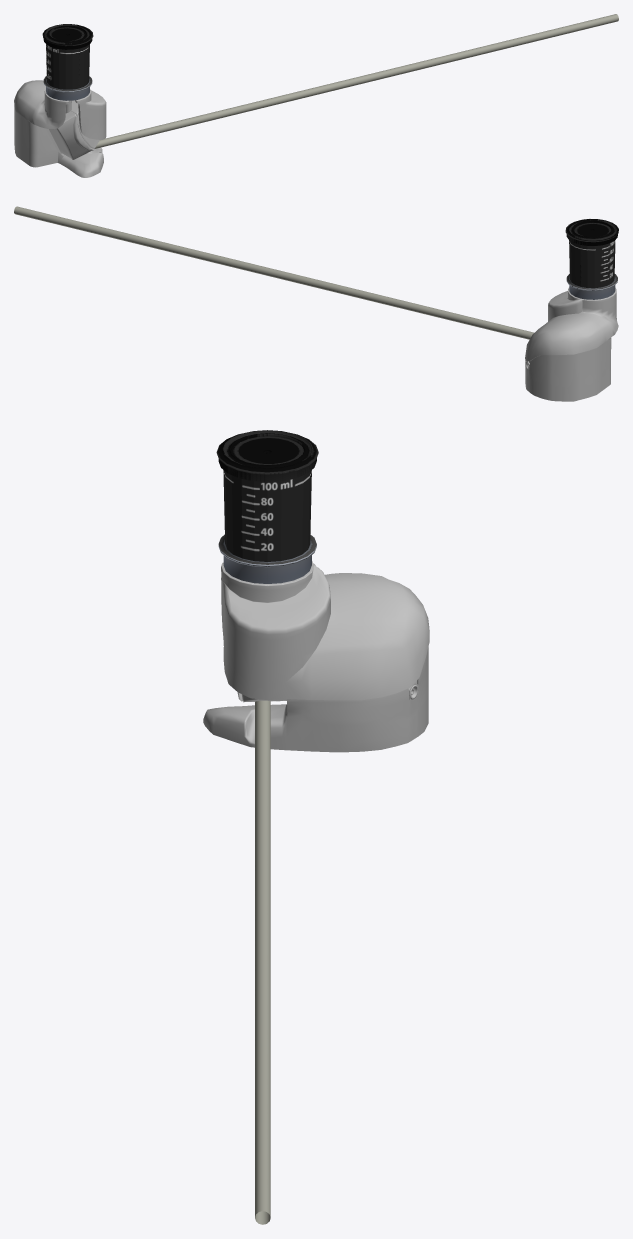
The model's file is membrane_filtration_pump_seperated_fixed.fbx.
The picture shows the model from 3 angles, top to bottom: view 1: azimuth 30°, elevation 25°; view 2: azimuth 150°, elevation 25°; view 3: azimuth 270°, elevation 25°; orthographic projection. The views are drawn at different scales.
Visible parts, largest first — view 1: membrane_filtration_pump, membrane_filtration_pump_hose, membrane_filtration_pump_tank, membrane_filtration_pump_filter_lid, membrane_filtration_pump_tank_base; view 2: membrane_filtration_pump, membrane_filtration_pump_hose, membrane_filtration_pump_tank, membrane_filtration_pump_filter_lid, membrane_filtration_pump_tank_base; view 3: membrane_filtration_pump, membrane_filtration_pump_hose, membrane_filtration_pump_tank, membrane_filtration_pump_filter_lid, membrane_filtration_pump_tank_base.
Boxes of the visible parts, <box> form: membrane_filtration_pump: <box>14,80,106,177</box>; membrane_filtration_pump_hose: <box>95,14,618,148</box>; membrane_filtration_pump_tank: <box>46,44,89,89</box>; membrane_filtration_pump_filter_lid: <box>42,24,93,49</box>; membrane_filtration_pump_tank_base: <box>43,76,92,100</box>; membrane_filtration_pump: <box>525,287,618,401</box>; membrane_filtration_pump_hose: <box>14,206,533,339</box>; membrane_filtration_pump_tank: <box>569,240,615,288</box>; membrane_filtration_pump_filter_lid: <box>565,219,618,245</box>; membrane_filtration_pump_tank_base: <box>566,273,617,299</box>; membrane_filtration_pump: <box>203,561,429,752</box>; membrane_filtration_pump_hose: <box>255,700,270,1224</box>; membrane_filtration_pump_tank: <box>223,470,311,561</box>; membrane_filtration_pump_filter_lid: <box>216,430,318,481</box>; membrane_filtration_pump_tank_base: <box>218,534,316,583</box>.
Bounding box in the file's own units: 78.38 × 17.39 × 13.35.
